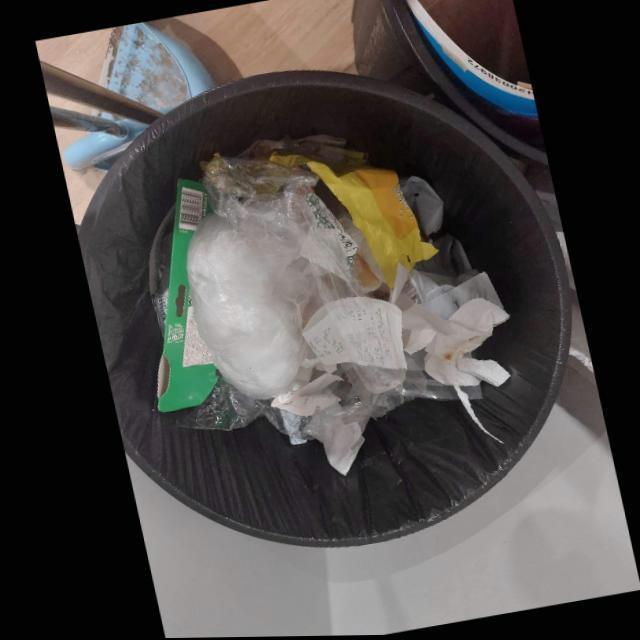cardboard: (153, 179, 213, 412)
food_wrapper: (304, 161, 436, 290)
paper: (386, 264, 507, 387), (298, 296, 403, 370), (298, 400, 367, 476), (266, 373, 340, 416)
plastic_bag: (183, 157, 309, 400)
